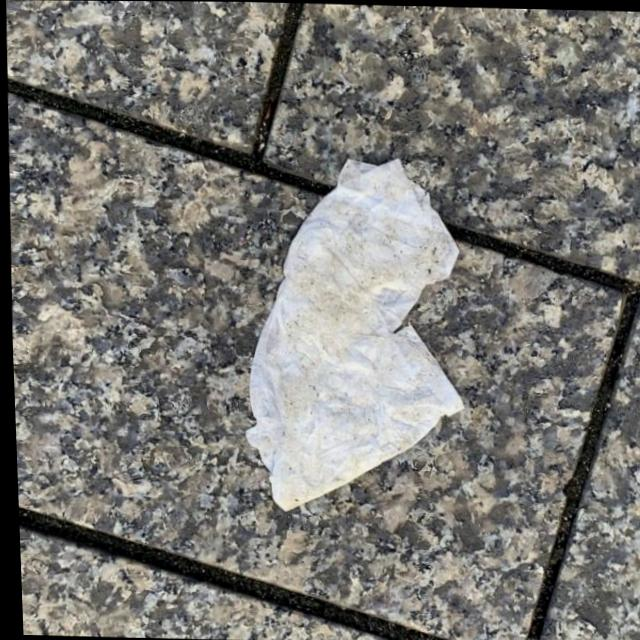Paper: (230, 150, 471, 517)
